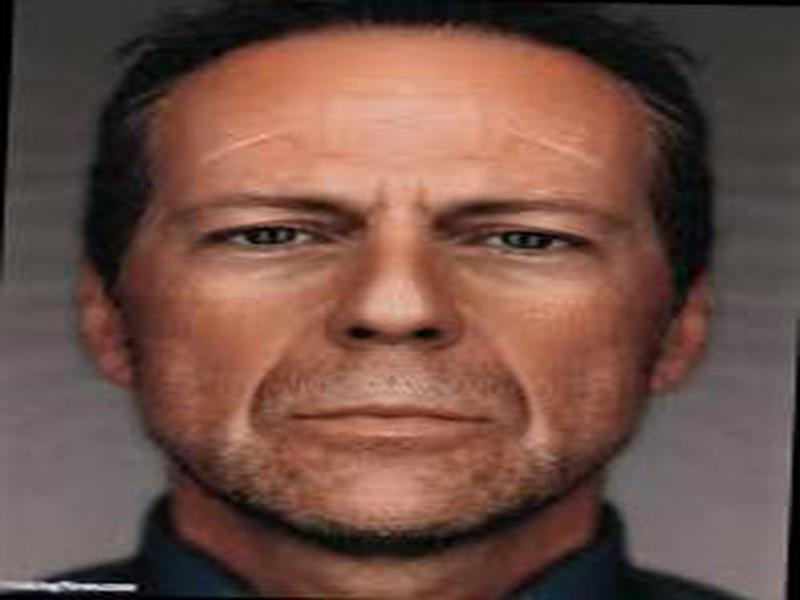without_mask: (129, 91, 660, 545)
